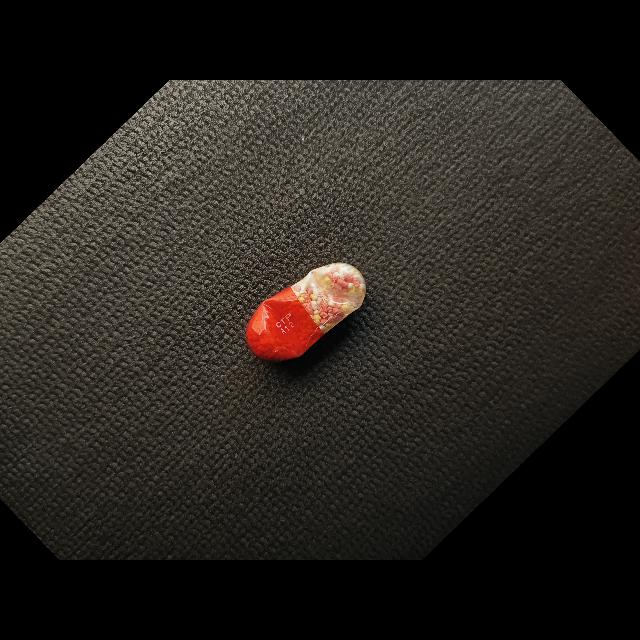Defective Capsule: (246, 262, 366, 362)
